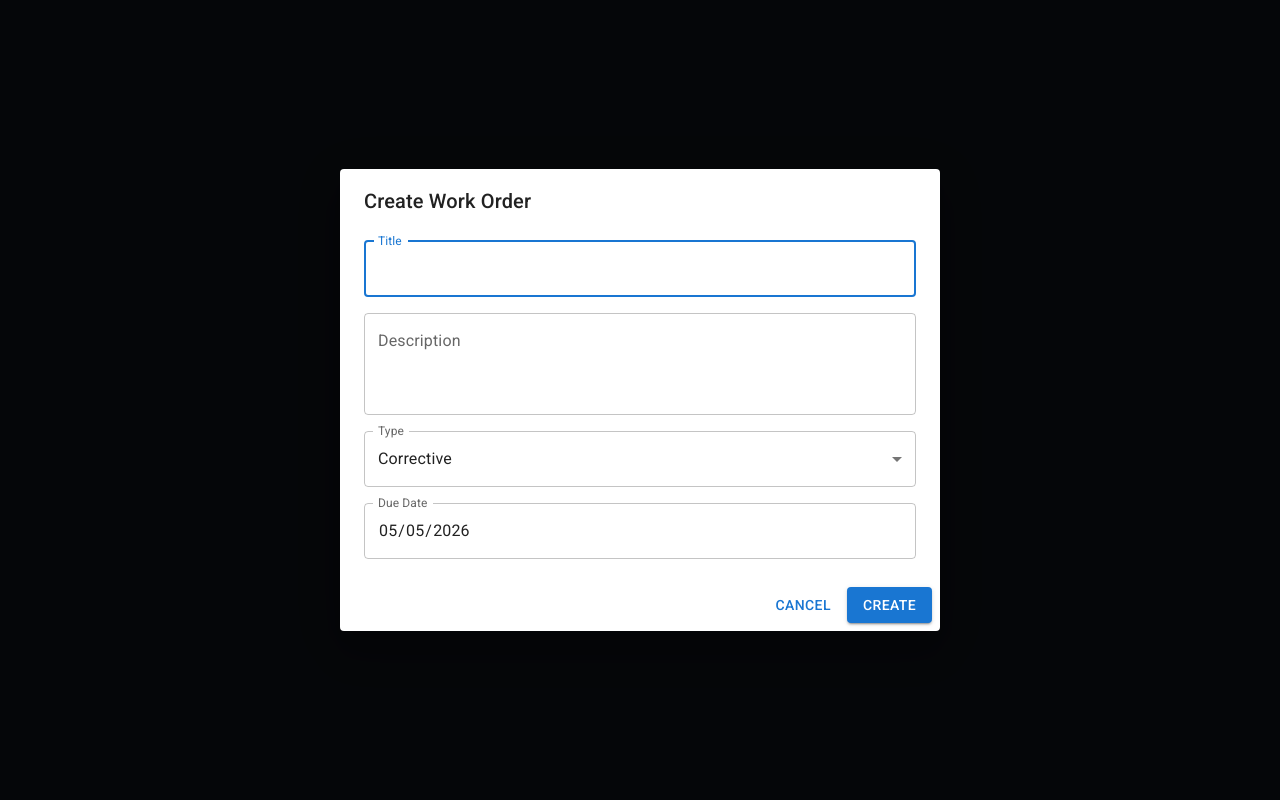
Test: WorkOrderForm (create) › blocks submission when title is empty
Click the button "Create" at point(889, 605), box [847, 587, 932, 623]
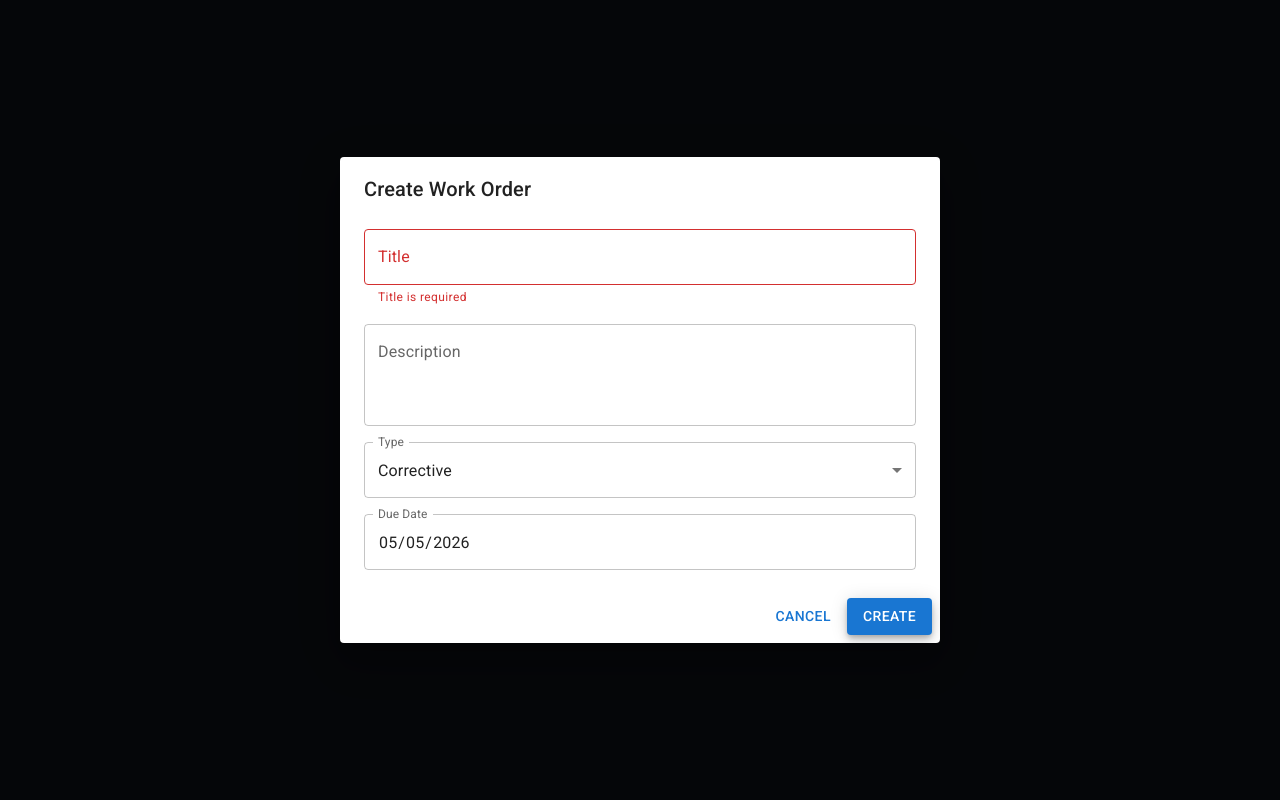
Now the text "Title is required" is shown, box [378, 290, 467, 304]
